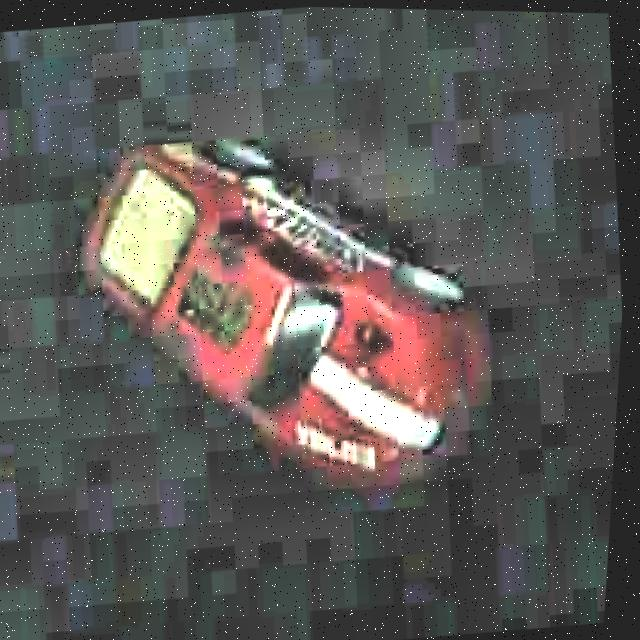car: (46, 101, 520, 526)
